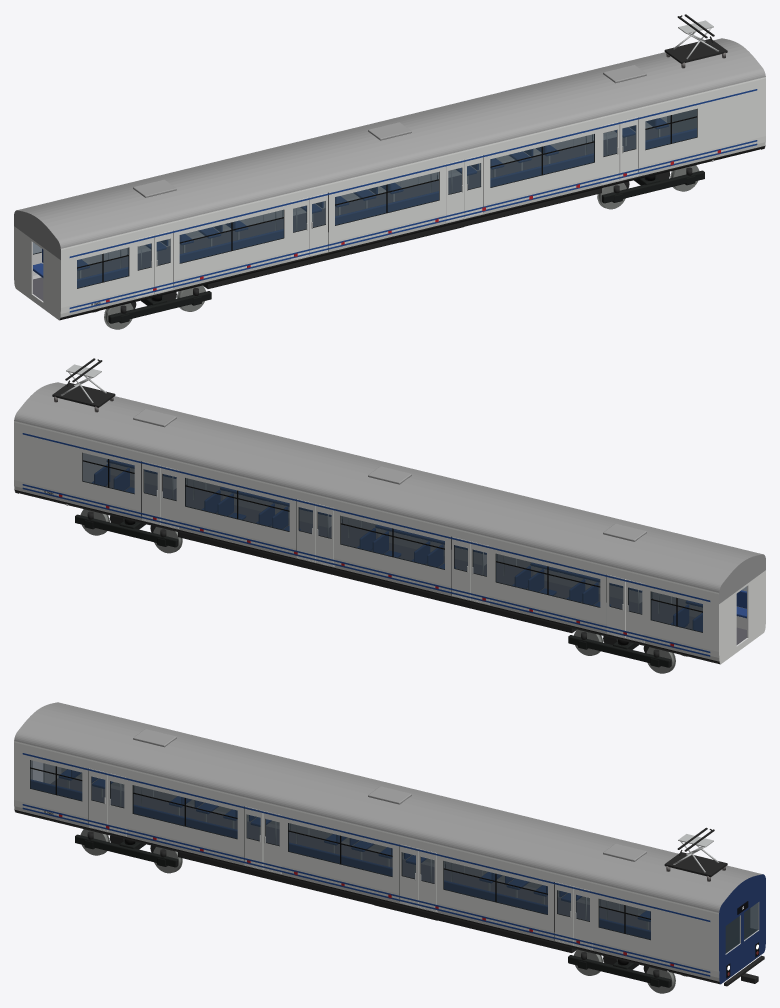
Rendered from ms61_cab.glb.
3 views of the same model, one above another, from view 1: azimuth 30°, elevation 25°; view 2: azimuth 150°, elevation 25°; view 3: azimuth 330°, elevation 25° (orthographic).
Parts seen in each view (by area): view 1: RER_MS61_Reno-US3_V1_Caisse, RER_MS61_Reno-US3_V1_BaieG1; view 2: RER_MS61_Reno-US3_V1_Caisse, RER_MS61_Reno-US3_V1_BaieG1; view 3: RER_MS61_Reno-US3_V1_Caisse, RER_MS61_Reno-US3_V1_BaieG1.
Boxes of the visible parts, bbox=[...] form: RER_MS61_Reno-US3_V1_Caisse: bbox=[14, 14, 765, 329]; RER_MS61_Reno-US3_V1_BaieG1: bbox=[33, 109, 697, 288]; RER_MS61_Reno-US3_V1_Caisse: bbox=[14, 358, 765, 673]; RER_MS61_Reno-US3_V1_BaieG1: bbox=[82, 453, 746, 632]; RER_MS61_Reno-US3_V1_Caisse: bbox=[14, 702, 765, 993]; RER_MS61_Reno-US3_V1_BaieG1: bbox=[30, 760, 758, 953].
Bounding box in the file's own units: 24.8 × 4.97 × 2.84.
6 materials, 1 textured.
